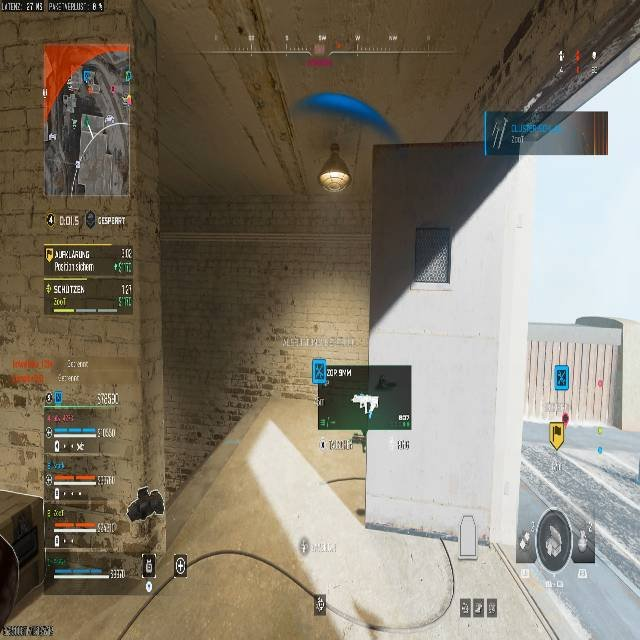head: (79, 57, 101, 84)
player: (548, 411, 569, 450)
